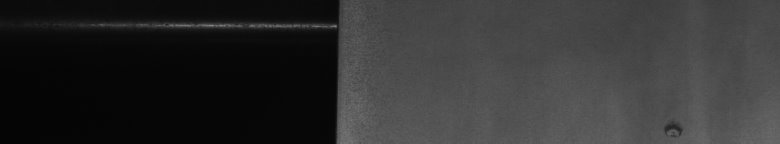fi: (660, 115, 687, 136)
